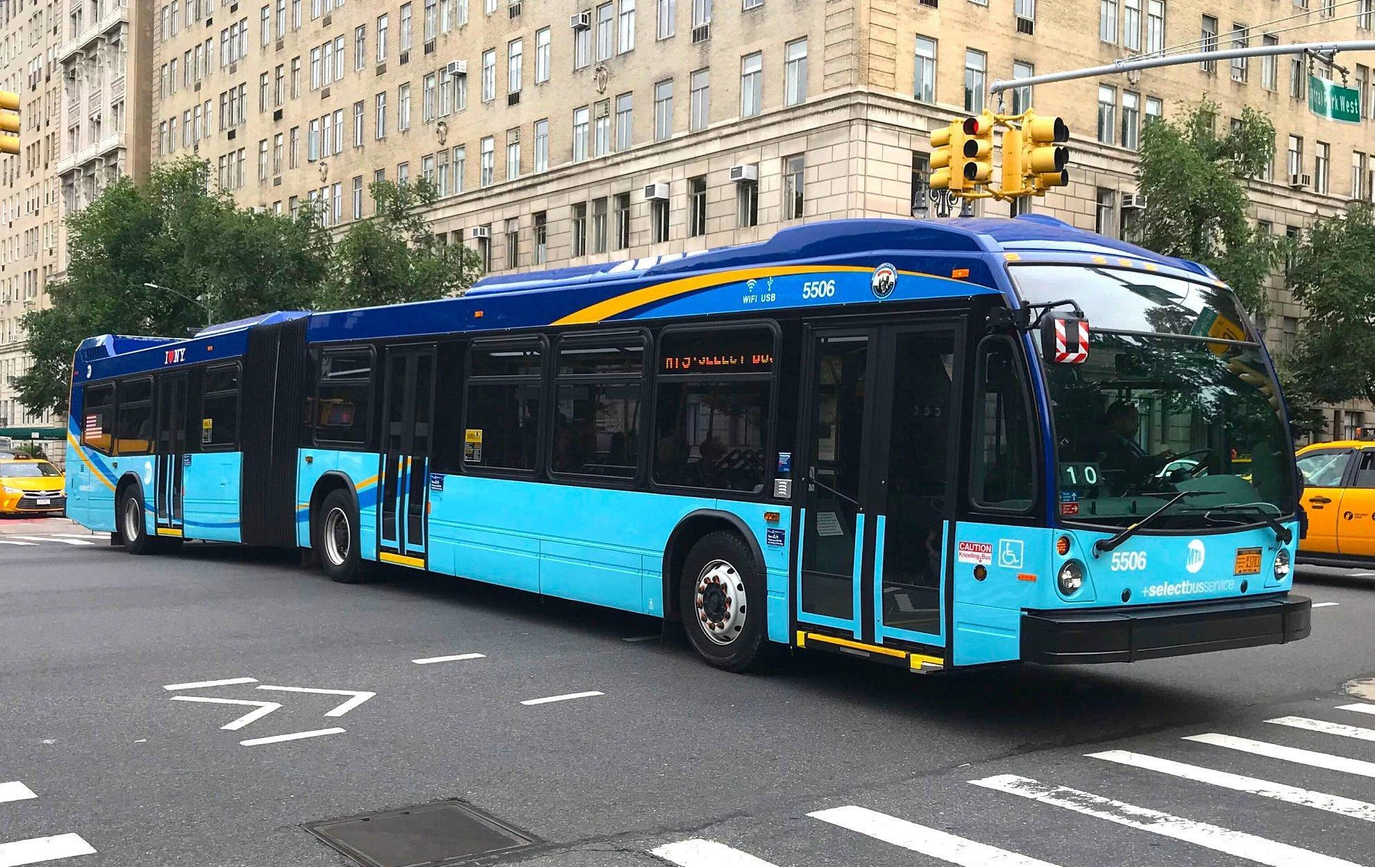Bus: (65, 216, 1317, 678)
